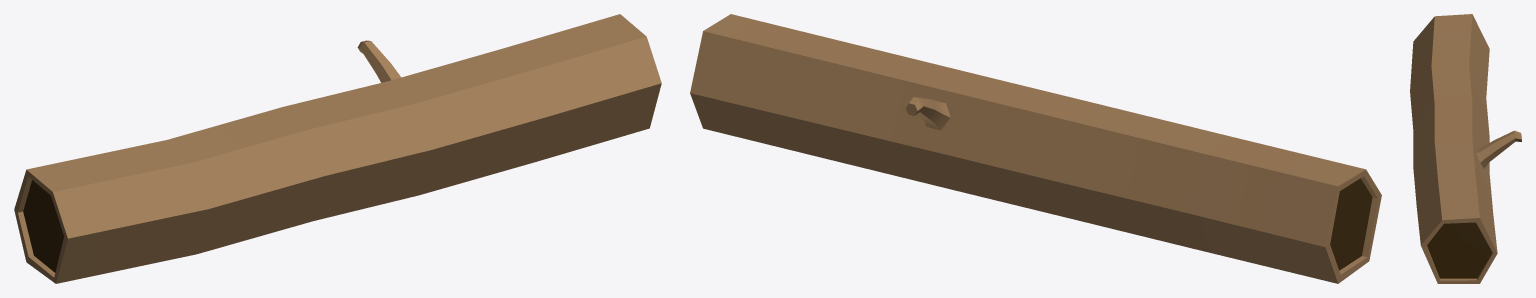
The model's file is Log 3.fbx.
3 views of the same model, side by side, from view 1: azimuth 30°, elevation 25°; view 2: azimuth 150°, elevation 25°; view 3: azimuth 270°, elevation 25° (orthographic). The views are drawn at different scales.
Parts seen in each view (by area): view 1: pCylinder7; view 2: pCylinder7; view 3: pCylinder7.
Part boxes in pixels (x1,y1,x2,y2): pCylinder7: (14,14,661,283); pCylinder7: (690,14,1381,283); pCylinder7: (1410,14,1521,283).
Bounding box in the file's own units: 142 × 25.14 × 32.38.
